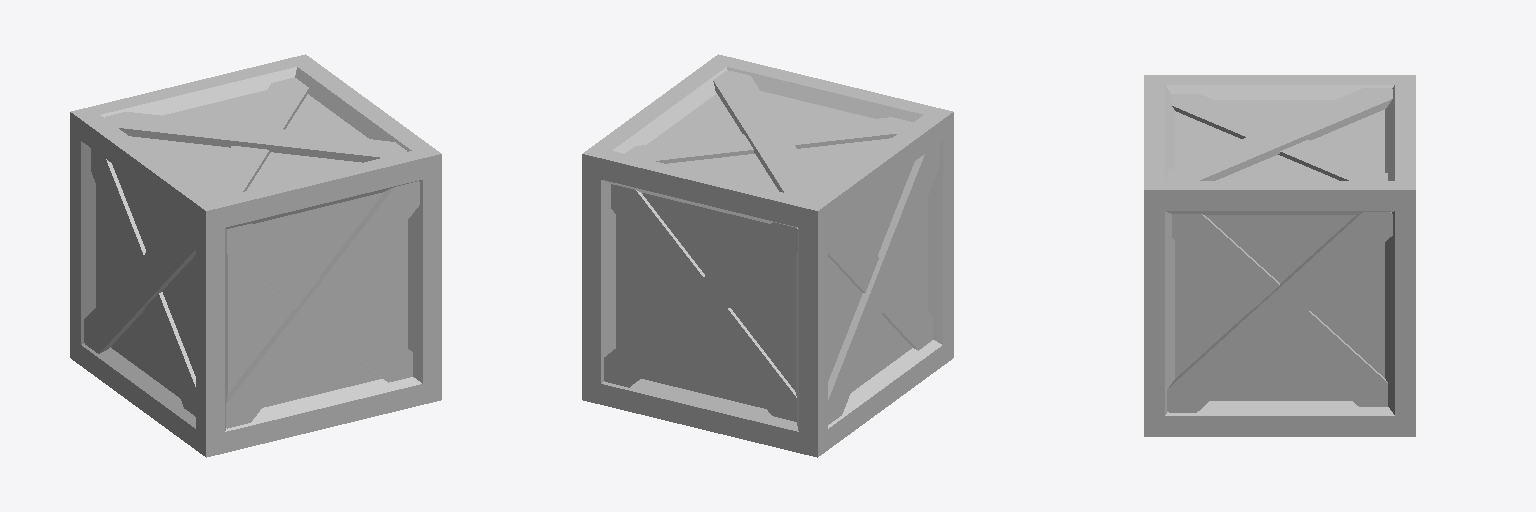
File: Crate.obj
The picture shows the model from 3 angles: view 1: azimuth 30°, elevation 25°; view 2: azimuth 150°, elevation 25°; view 3: azimuth 270°, elevation 25°; orthographic projection.
Parts seen in each view (by area): view 1: Box, Boards3, Boards4, Boards5; view 2: Box, Boards3, Boards4, Boards5; view 3: Box, Boards4, Boards5.
Part boxes in pixels (bbox=[...]): Box: bbox=[70, 54, 441, 457]; Boards3: bbox=[226, 181, 419, 428]; Boards4: bbox=[84, 148, 195, 416]; Boards5: bbox=[105, 77, 407, 198]; Box: bbox=[582, 54, 953, 457]; Boards3: bbox=[604, 184, 797, 421]; Boards4: bbox=[828, 144, 939, 424]; Boards5: bbox=[625, 71, 912, 198]; Box: bbox=[1144, 75, 1415, 436]; Boards4: bbox=[1167, 212, 1392, 412]; Boards5: bbox=[1167, 88, 1392, 180].
Size of the model in its own units: 13.9 by 13.9 by 13.9.